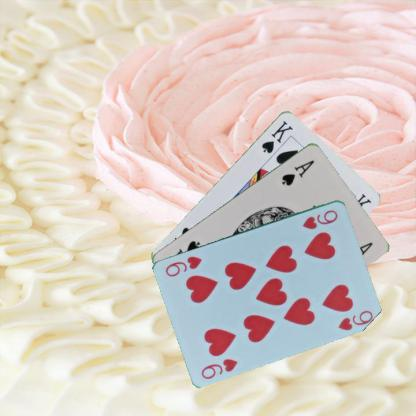9h: (198, 356, 239, 380), (299, 207, 339, 230)
As: (279, 157, 316, 187)
Ks: (259, 118, 295, 154)
